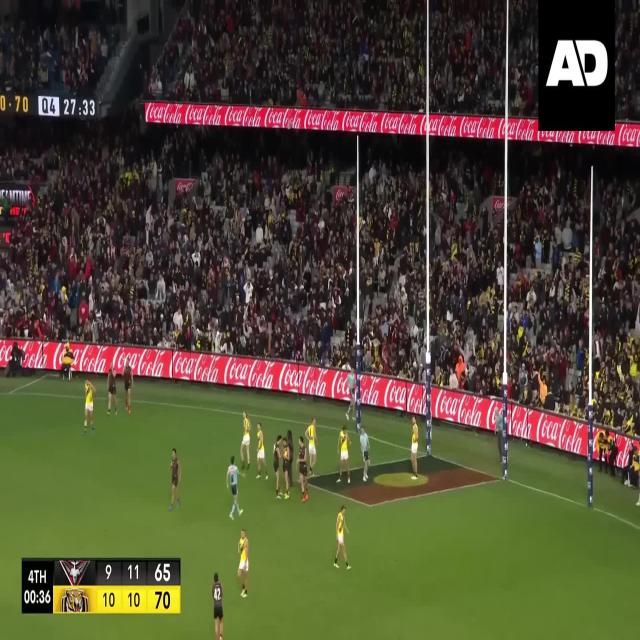crowd: (0, 123, 356, 366), (149, 0, 428, 113), (504, 154, 587, 422), (430, 146, 503, 399), (361, 140, 426, 378), (594, 170, 639, 434), (0, 2, 126, 94), (430, 4, 505, 115), (509, 3, 537, 119), (616, 2, 640, 120)
